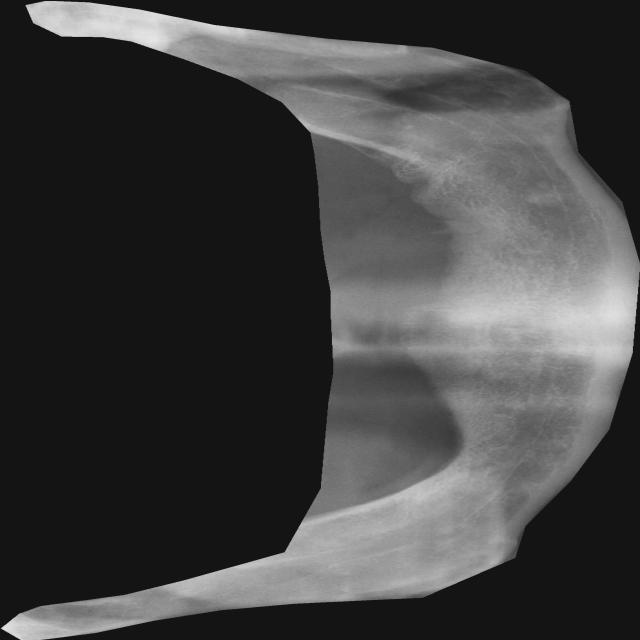mandibula: (1, 0, 640, 640)
